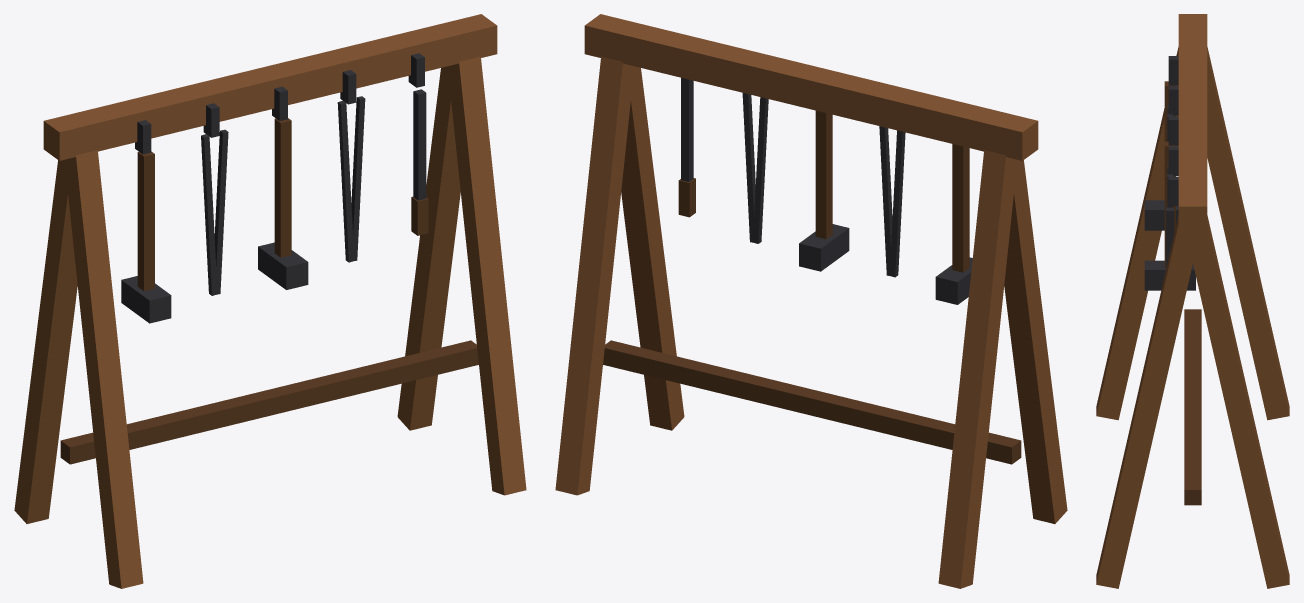
The model's file is Tool_Rack.fbx.
3 renders of one model, left to right at view 1: azimuth 30°, elevation 25°; view 2: azimuth 150°, elevation 25°; view 3: azimuth 270°, elevation 25°, orthographic. The views are drawn at different scales.
Visible parts, largest first — view 1: Tool_Rack; view 2: Tool_Rack; view 3: Tool_Rack.
Boxes of the visible parts, bbox=[...] form: Tool_Rack: bbox=[14, 14, 526, 588]; Tool_Rack: bbox=[555, 14, 1067, 588]; Tool_Rack: bbox=[1096, 14, 1289, 588].
Size of the model in its own units: 1.6 by 1.51 by 0.6783.
